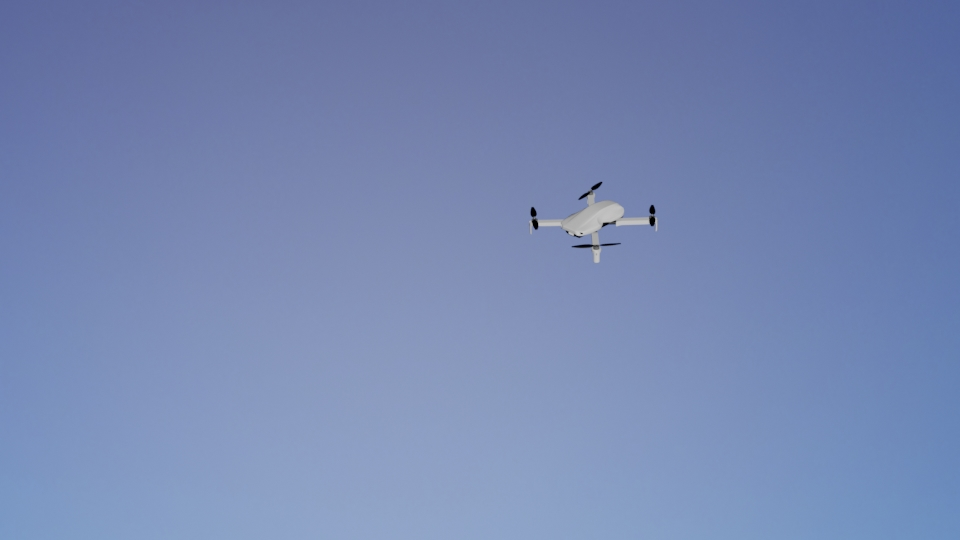drone: (527, 179, 658, 262)
